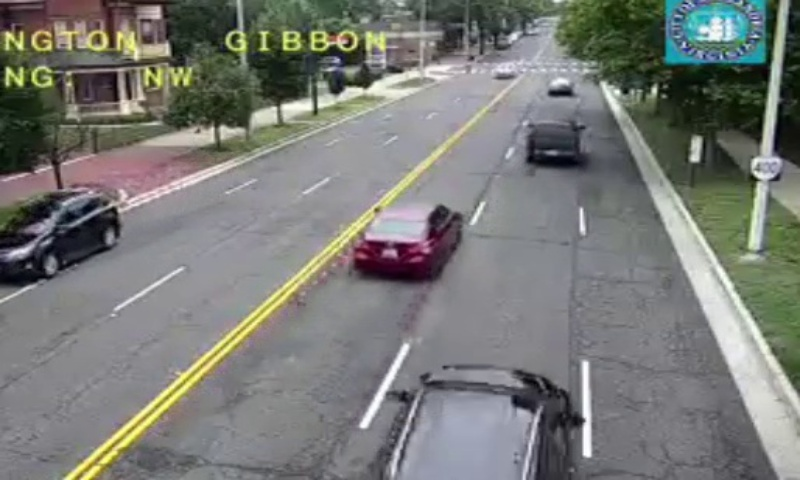car: (373, 367, 574, 480), (351, 204, 463, 275), (526, 120, 580, 161)
